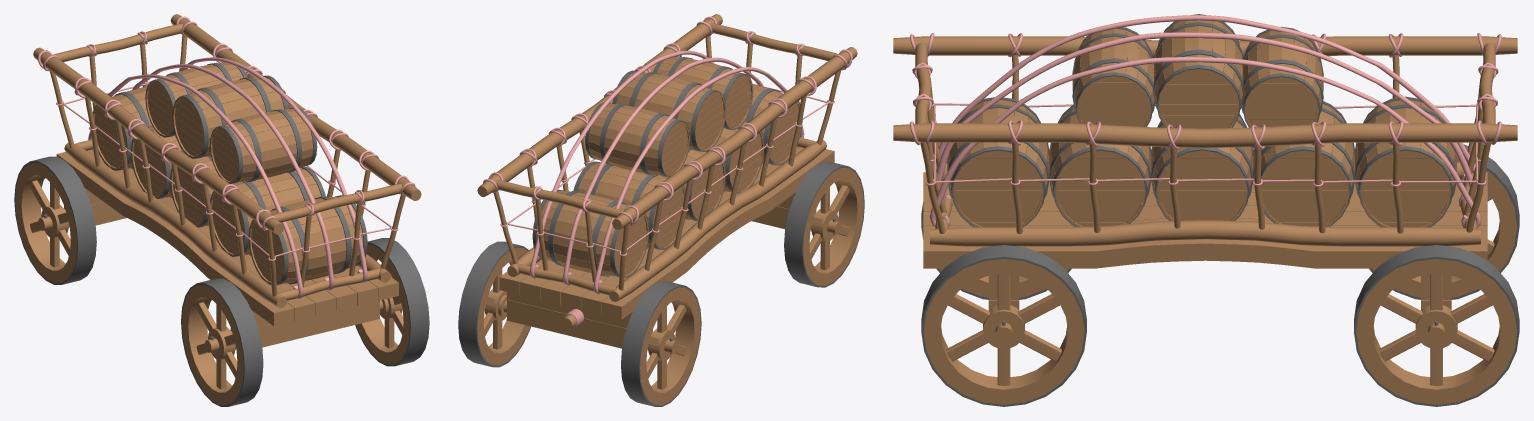
Rendered from SM_supply_wagon.fbx.
The picture shows the model from 3 angles, left to right: view 1: azimuth 30°, elevation 25°; view 2: azimuth 150°, elevation 25°; view 3: azimuth 270°, elevation 25°; orthographic projection. The views are drawn at different scales.
Visible parts, largest first — view 1: SM_supply_wagon; view 2: SM_supply_wagon; view 3: SM_supply_wagon.
Boxes of the visible parts, x1,y1,x2,y2 form: SM_supply_wagon: [14, 14, 429, 406]; SM_supply_wagon: [458, 14, 864, 406]; SM_supply_wagon: [893, 14, 1519, 406].
Bounding box in the file's own units: 285 × 341 × 613.
